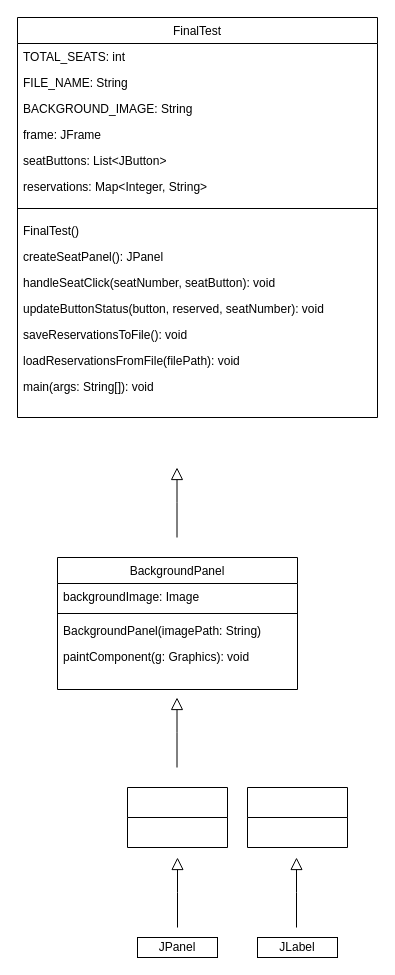
Image size: 395x975. Some labels were removed from this diagram. Here are the shapes that lost their labels. From the top down, the centre of each, then its label:
(177,817): JButton
(297,817): JFrame
